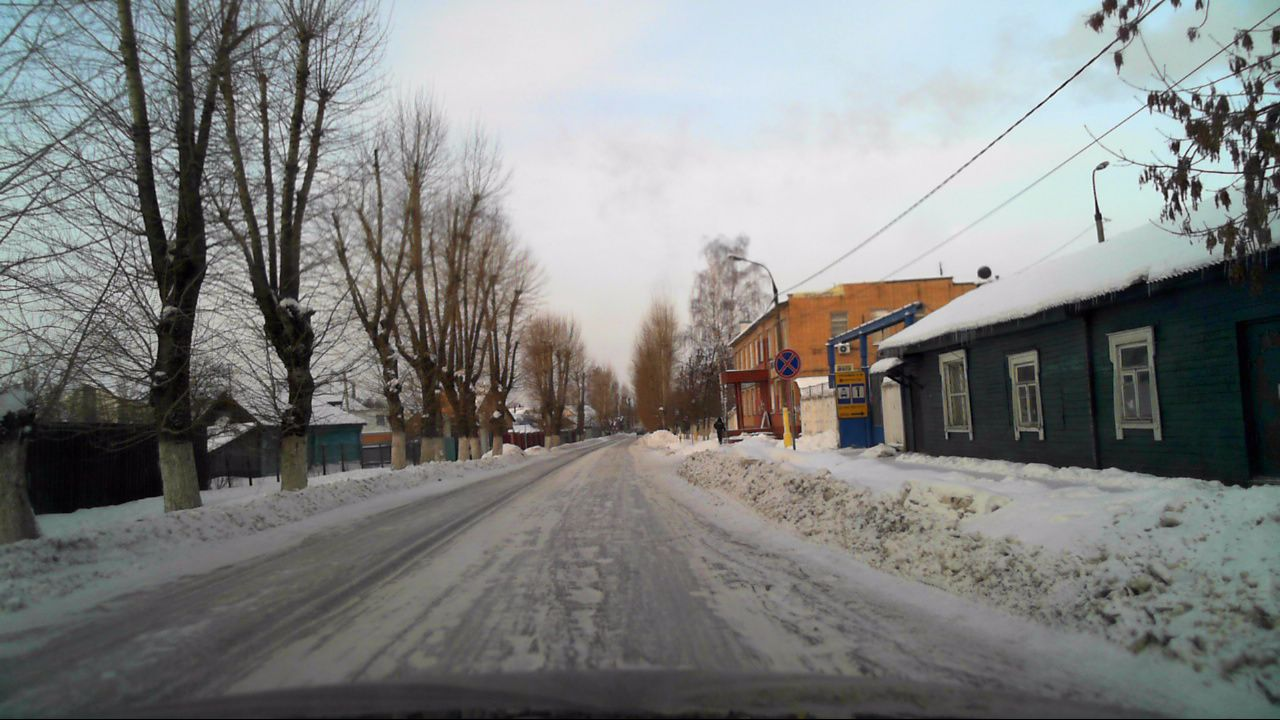No Parking: (773, 348, 801, 380)
